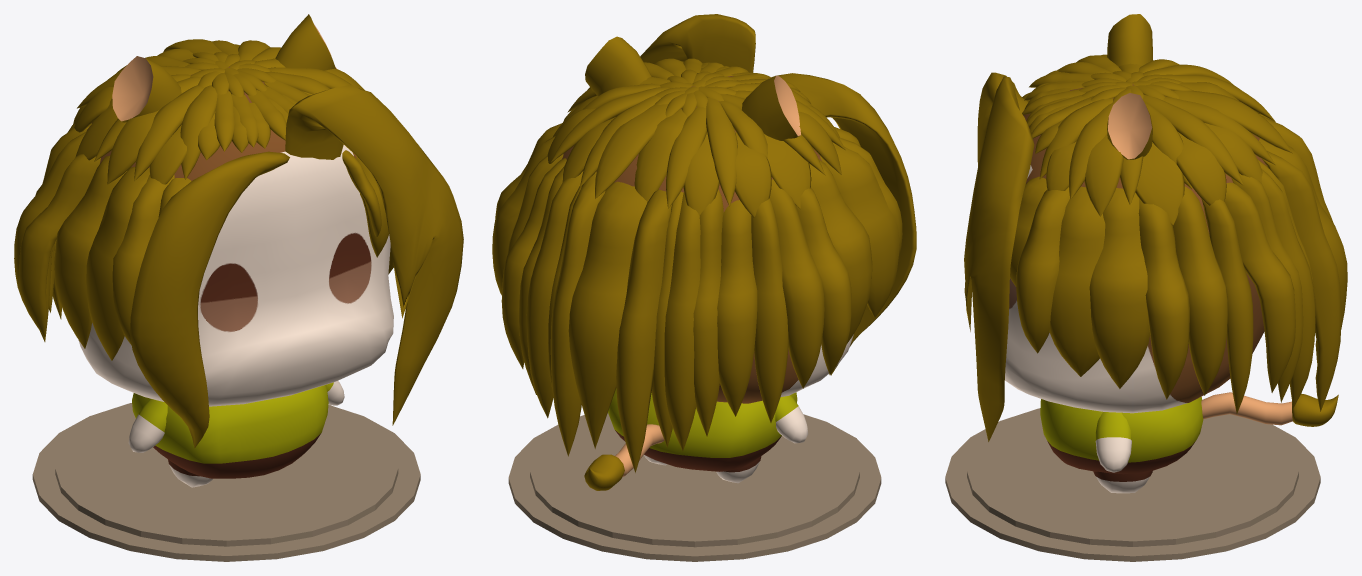
File: lion.fbx
3 views of the same model, side by side, from view 1: azimuth 30°, elevation 25°; view 2: azimuth 150°, elevation 25°; view 3: azimuth 270°, elevation 25° (orthographic). The views are drawn at different scales.
Visible parts, largest first — view 1: lion28, koma_base, lion52, lion01, lion12, lion26, lion21, lion37, lion42, polySurface28, lion06, lion32 (+19 smaller); view 2: koma_base, lion27, lion11, lion31, lion08, lion54, lion24, lion01, lion51, lion12, lion37, lion21 (+22 smaller); view 3: koma_base, lion52, lion28, lion26, lion12, lion27, lion21, lion54, lion37, lion08, lion42, lion24 (+25 smaller).
Boxes of the visible parts, x1,y1,x2,y2 form: lion28: [78, 66, 393, 406]; koma_base: [32, 403, 420, 561]; lion52: [285, 84, 463, 425]; lion01: [130, 151, 289, 447]; lion12: [132, 385, 328, 478]; lion26: [54, 155, 393, 348]; lion21: [86, 167, 149, 360]; lion37: [18, 154, 100, 337]; lion42: [112, 175, 174, 344]; polySurface28: [121, 14, 335, 122]; lion06: [134, 67, 351, 181]; lion32: [180, 71, 329, 179]; koma_base: [508, 413, 881, 561]; lion27: [550, 174, 672, 472]; lion11: [526, 171, 700, 451]; lion31: [568, 181, 646, 448]; lion08: [501, 158, 757, 416]; lion54: [492, 136, 824, 388]; lion24: [507, 154, 788, 422]; lion01: [771, 73, 916, 375]; lion51: [518, 166, 723, 436]; lion12: [608, 388, 797, 471]; lion37: [495, 123, 851, 375]; lion21: [820, 144, 899, 317]; koma_base: [945, 408, 1320, 561]; lion52: [964, 76, 1034, 441]; lion28: [1005, 84, 1266, 413]; lion26: [1089, 188, 1149, 388]; lion12: [1040, 396, 1203, 474]; lion27: [1262, 116, 1341, 411]; lion21: [1049, 186, 1105, 376]; lion54: [1172, 186, 1227, 395]; lion37: [1138, 198, 1189, 399]; lion08: [1224, 182, 1295, 392]; lion42: [1016, 187, 1069, 353]; lion24: [1201, 198, 1253, 413].
Size of the model in its own units: 6.61 by 7.56 by 6.43.
Materials: 4 (1 with a texture image).
